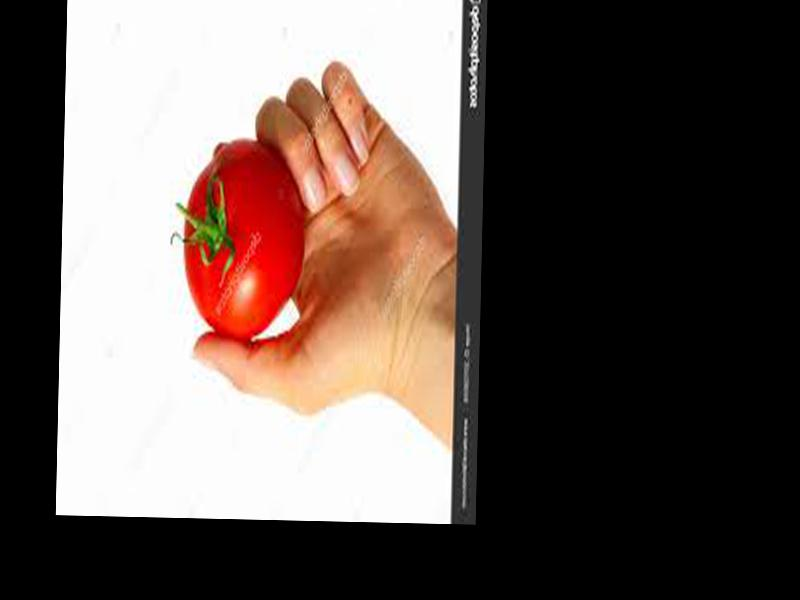Tomato: (180, 142, 307, 339)
